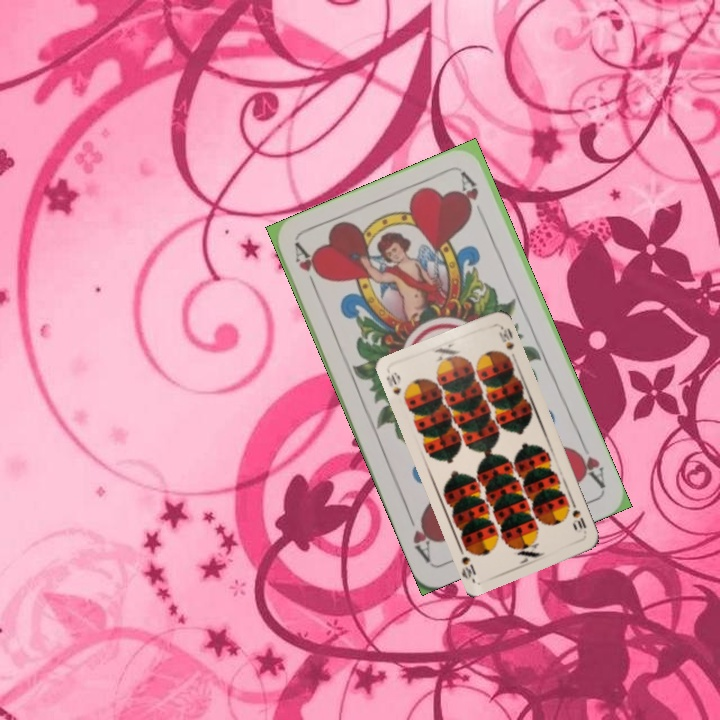HA: (570, 435, 608, 491), (290, 240, 324, 297)
S10: (382, 368, 409, 405), (567, 497, 589, 535)
